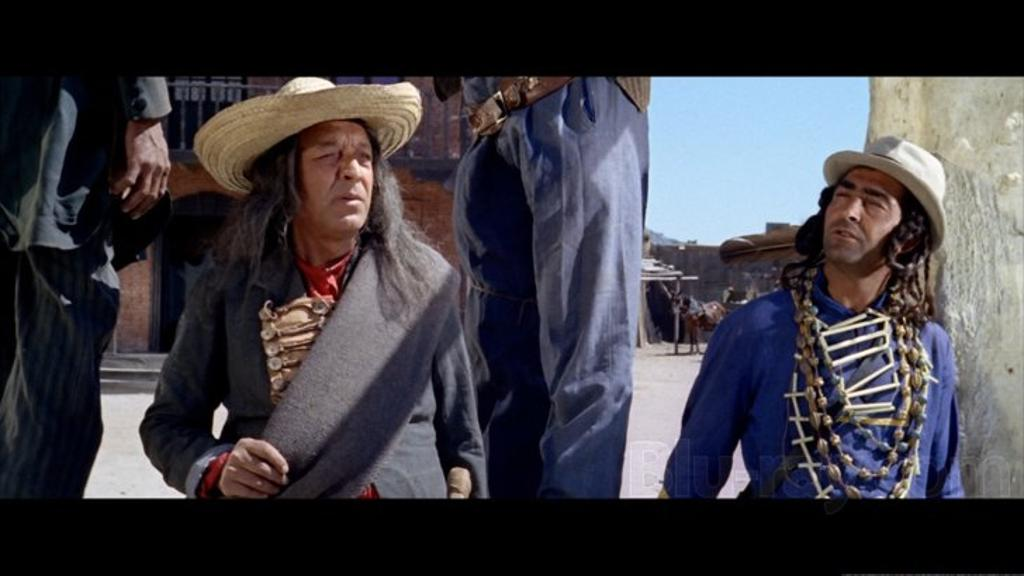face: (826, 166, 898, 264), (308, 124, 374, 224)
